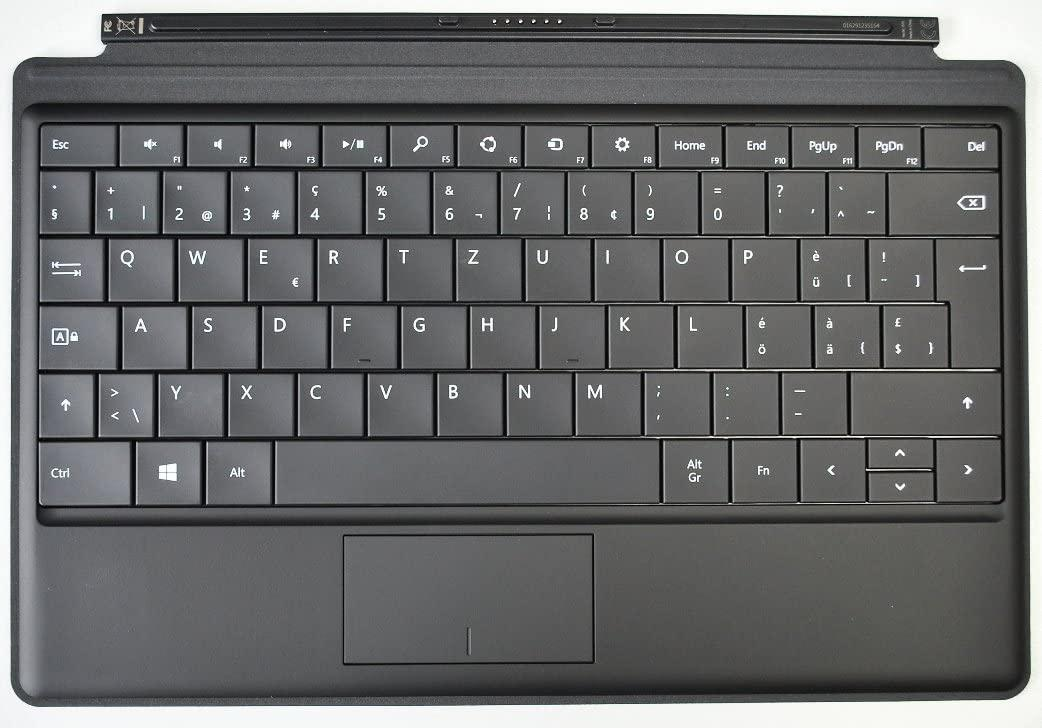0: (696, 165, 762, 233)
1: (91, 164, 156, 232)
2: (159, 165, 225, 233)
3: (225, 164, 292, 232)
4: (294, 164, 359, 231)
5: (360, 165, 427, 232)
6: (429, 165, 495, 233)
7: (497, 165, 563, 233)
8: (563, 165, 628, 232)
9: (630, 165, 696, 233)
a: (118, 300, 185, 367)
accent: (826, 165, 885, 232)
ae: (810, 298, 879, 367)
alt-left: (202, 435, 270, 504)
altgr-right: (658, 434, 727, 502)
b: (432, 367, 502, 434)
c: (293, 367, 362, 434)
comma: (640, 365, 708, 433)
d: (256, 300, 325, 367)
del: (887, 166, 1001, 233)
e: (242, 232, 311, 299)
enter: (933, 233, 1000, 368)
f: (327, 299, 395, 367)
g: (397, 300, 465, 367)
h: (465, 300, 533, 367)
i: (590, 232, 657, 298)
j: (536, 299, 603, 367)
k: (604, 299, 672, 366)
keyboard: (23, 94, 1015, 524)
l: (674, 299, 741, 366)
less: (94, 367, 152, 435)
m: (570, 365, 638, 434)
minus: (777, 365, 846, 432)
n: (502, 367, 570, 434)
o: (657, 232, 726, 299)
oe: (745, 302, 814, 371)
p: (726, 232, 795, 299)
point: (709, 365, 778, 432)
q: (102, 232, 171, 299)
r: (312, 233, 381, 299)
s: (188, 301, 255, 367)
shift-left: (36, 368, 93, 436)
shift-lock: (34, 300, 115, 369)
shift-right: (847, 364, 1001, 433)
space: (269, 434, 661, 504)
strg-left: (32, 435, 131, 505)
t: (383, 233, 450, 299)
tab: (36, 231, 101, 299)
u: (520, 232, 588, 300)
ue: (796, 232, 864, 300)
v: (363, 368, 431, 434)
w: (173, 232, 239, 299)
x: (224, 368, 292, 434)
y: (154, 368, 222, 435)
z: (451, 232, 520, 300)
